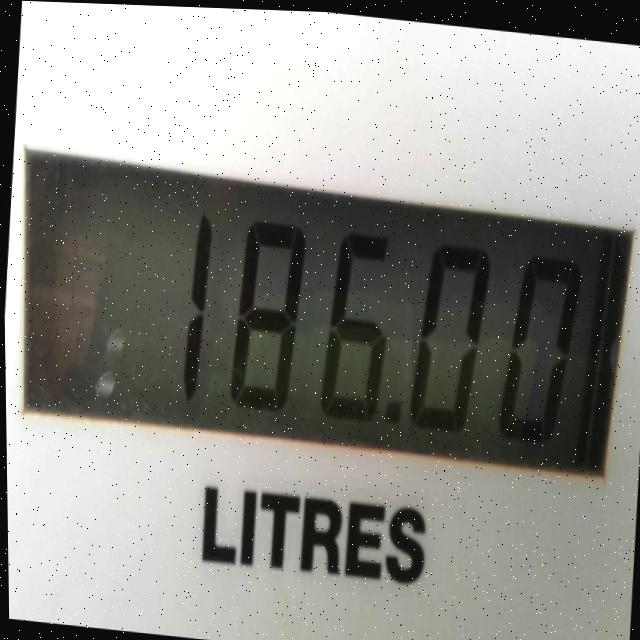.: (386, 392, 403, 424)
0: (405, 238, 490, 433), (495, 248, 576, 440)
1: (178, 213, 214, 395)
6: (315, 223, 393, 419)
8: (221, 212, 308, 419)
